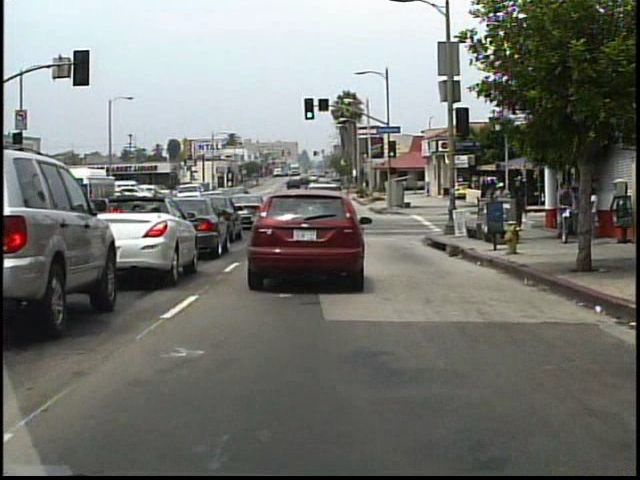person: (511, 177, 530, 238), (493, 180, 513, 231), (560, 182, 577, 234), (591, 187, 597, 241), (581, 183, 582, 240)
